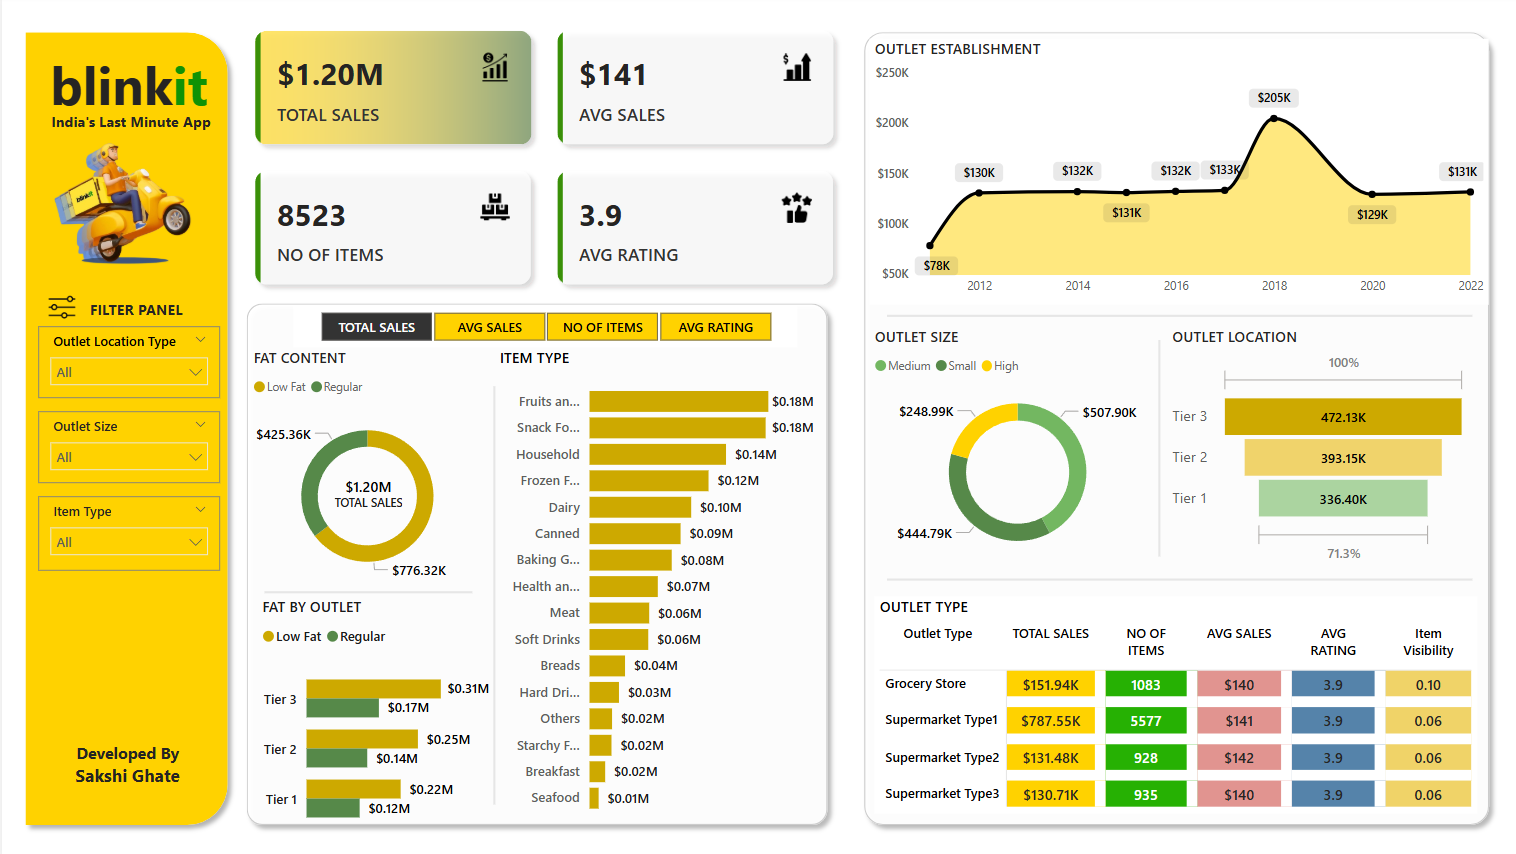

Layout of this report page (visuals, bound fields, positions):
{"tool":"powerbi","page":{"name":"Page 1","canvas":[1400,800],"ordinal":0},"visuals":[{"type":"shape","box":[12.7,25.4,204.8,750.4],"z":0},{"type":"textbox","box":[33.1,44.5,167.9,81.4],"z":1000},{"type":"textbox","box":[40.7,103,176.8,34.3],"z":2000},{"type":"image","box":[25.4,125.9,170.4,131],"z":3000},{"type":"cardVisual","fields":{"Data":["BlinkIT Grocery Data.TOTAL SALES","BlinkIT Grocery Data.AVG SALES","BlinkIT Grocery Data.NO OF ITEMS","BlinkIT Grocery Data.AVG RATING"]},"box":[217.5,16.5,569.8,269.6],"z":4000},{"type":"shape","box":[217.5,276,554.5,499.8],"z":5000},{"type":"donutChart","title":"FAT CONTENT","fields":{"Y":["BlinkIT Grocery Data.TOTAL SALES"],"Category":["BlinkIT Grocery Data.Item Fat Content"]},"box":[227.7,325.6,220,230.2],"z":6000},{"type":"slicer","fields":{"Values":["Metrics.Metrics"]},"box":[269.6,286.2,465.5,39.4],"z":7000},{"type":"cardVisual","fields":{"Data":["BlinkIT Grocery Data.TOTAL SALES"]},"box":[283.6,426.1,109.4,68.7],"z":8000},{"type":"clusteredBarChart","title":"FAT BY OUTLET","fields":{"Y":["BlinkIT Grocery Data.TOTAL SALES"],"Category":["BlinkIT Grocery Data.Outlet Location Type"],"Series":["BlinkIT Grocery Data.Item Fat Content"]},"box":[235.3,555.8,220,230.2],"z":9000},{"type":"shape","box":[242.9,546.9,192,8.9],"z":10000},{"type":"shape","box":[447.7,361.2,14,386.6],"z":11000},{"type":"barChart","title":"ITEM TYPE","fields":{"Y":["BlinkIT Grocery Data.TOTAL SALES"],"Category":["BlinkIT Grocery Data.Item Type"]},"box":[455.3,325.6,300.1,441.3],"z":12000},{"type":"shape","box":[787.2,25.4,595.2,750.4],"z":13000},{"type":"lineChart","title":"OUTLET ESTABLISHMENT","fields":{"Y":["BlinkIT Grocery Data.TOTAL SALES"],"Category":["BlinkIT Grocery Data.Outlet Establishment Year"]},"box":[801.2,40.7,572.3,245.5],"z":14000},{"type":"shape","box":[817.8,286.2,540.5,20.3],"z":15000},{"type":"donutChart","title":"OUTLET SIZE","fields":{"Category":["BlinkIT Grocery Data.Outlet Size"],"Y":["BlinkIT Grocery Data.TOTAL SALES"]},"box":[801.2,306.5,274.7,225.1],"z":16000},{"type":"shape","box":[1062,319.2,14,199.7],"z":17000},{"type":"funnel","title":"OUTLET LOCATION","fields":{"Category":["BlinkIT Grocery Data.Outlet Location Type"],"Y":["Sum(BlinkIT Grocery Data.Sales)"]},"box":[1075.9,306.5,282.3,225.1],"z":18000},{"type":"shape","box":[817.8,530.3,540.5,20.3],"z":19000},{"type":"pivotTable","title":"OUTLET TYPE","fields":{"Rows":["BlinkIT Grocery Data.Outlet Type"],"Values":["BlinkIT Grocery Data.TOTAL SALES","BlinkIT Grocery Data.NO OF ITEMS","BlinkIT Grocery Data.AVG SALES","BlinkIT Grocery Data.AVG RATING","Avg(BlinkIT Grocery Data.Item Visibility)"]},"box":[806.3,555.8,557.1,200.9],"z":20000},{"type":"slicer","fields":{"Values":["BlinkIT Grocery Data.Outlet Location Type"]},"box":[33.1,306.5,167.9,66.1],"z":21000},{"type":"slicer","fields":{"Values":["BlinkIT Grocery Data.Outlet Size"]},"box":[33.1,384.1,167.9,66.1],"z":22000},{"type":"slicer","fields":{"Values":["BlinkIT Grocery Data.Item Type"]},"box":[33.1,462.9,167.9,68.7],"z":23000},{"type":"textbox","box":[76.3,276,124.6,29.3],"z":24000},{"type":"image","box":[25.4,265.8,59.8,45.8],"z":25000},{"type":"textbox","box":[40.7,684.2,151.3,63.6],"z":26000}]}

Visuals, with their boxes in screenshot pixels (x1, y1, x2, y2), scaled from the page's 1400x800 canvas onto the 1516x854 screenshot:
shape: bbox(14, 27, 236, 828)
textbox: bbox(36, 48, 218, 134)
textbox: bbox(44, 110, 236, 147)
image: bbox(28, 134, 212, 274)
cardVisual - BlinkIT Grocery Data.TOTAL SALES x BlinkIT Grocery Data.AVG SALES: bbox(236, 18, 853, 305)
shape: bbox(236, 295, 836, 828)
"FAT CONTENT" donutChart: bbox(247, 348, 485, 593)
slicer - Metrics.Metrics: bbox(292, 306, 796, 348)
cardVisual - BlinkIT Grocery Data.TOTAL SALES: bbox(307, 455, 426, 528)
"FAT BY OUTLET" clusteredBarChart: bbox(255, 593, 493, 839)
shape: bbox(263, 584, 471, 593)
shape: bbox(485, 386, 500, 798)
"ITEM TYPE" barChart: bbox(493, 348, 818, 819)
shape: bbox(852, 27, 1497, 828)
"OUTLET ESTABLISHMENT" lineChart: bbox(868, 43, 1487, 306)
shape: bbox(886, 306, 1471, 327)
"OUTLET SIZE" donutChart: bbox(868, 327, 1165, 567)
shape: bbox(1150, 341, 1165, 554)
"OUTLET LOCATION" funnel: bbox(1165, 327, 1471, 567)
shape: bbox(886, 566, 1471, 588)
"OUTLET TYPE" pivotTable: bbox(873, 593, 1476, 808)
slicer - BlinkIT Grocery Data.Outlet Location Type: bbox(36, 327, 218, 398)
slicer - BlinkIT Grocery Data.Outlet Size: bbox(36, 410, 218, 481)
slicer - BlinkIT Grocery Data.Item Type: bbox(36, 494, 218, 567)
textbox: bbox(83, 295, 218, 326)
image: bbox(28, 284, 92, 333)
textbox: bbox(44, 730, 208, 798)
